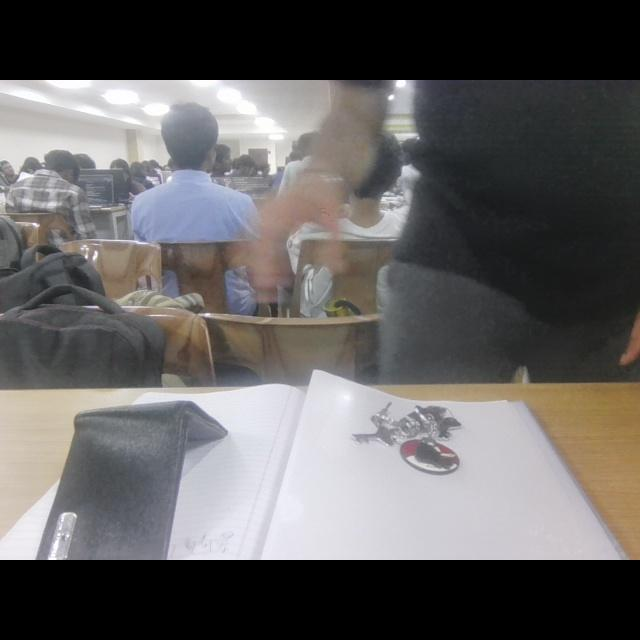keys: (352, 384, 474, 496)
wallet: (33, 392, 245, 560)
